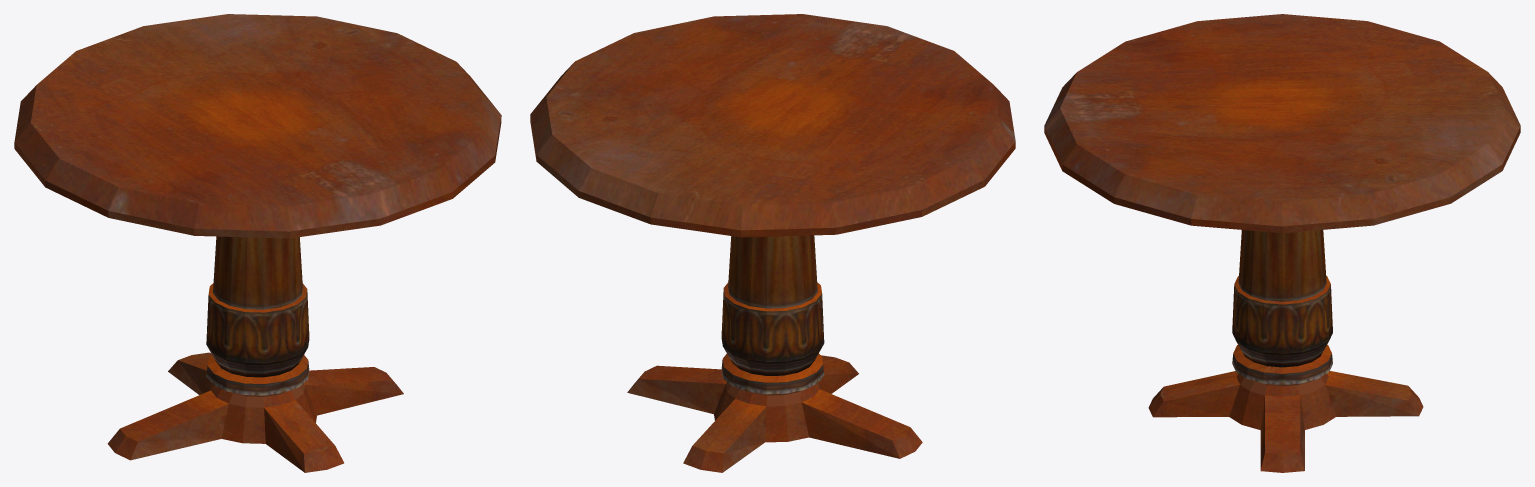
The model's file is round_table.fbx.
3 renders of one model, left to right at view 1: azimuth 30°, elevation 25°; view 2: azimuth 150°, elevation 25°; view 3: azimuth 270°, elevation 25°, orthographic. The views are drawn at different scales.
Parts seen in each view (by area): view 1: Mesh1; view 2: Mesh1; view 3: Mesh1.
Part boxes in pixels (x1,y1,x2,y2): Mesh1: (14, 14, 501, 472); Mesh1: (530, 14, 1015, 472); Mesh1: (1044, 14, 1520, 472).
Bounding box in the file's own units: 58.26 × 40.56 × 58.26.
